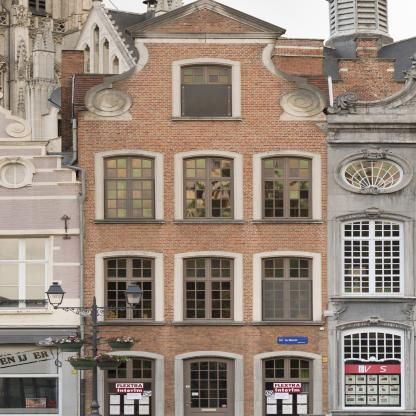Building Outline: (78, 0, 328, 416)
Cornice: (125, 0, 287, 40)
Door: (183, 357, 235, 416)
Facade: (78, 121, 328, 415)
Floor: (78, 240, 327, 341), (78, 143, 327, 240)
Floor Slab: (78, 138, 327, 143), (78, 235, 327, 240), (78, 336, 327, 341)
Ground Floor: (78, 341, 327, 416)
Sill: (170, 116, 245, 121), (172, 321, 246, 326), (93, 321, 166, 326), (250, 220, 325, 224), (172, 220, 247, 224), (93, 220, 167, 224), (252, 321, 325, 325)
Top Floor: (140, 38, 271, 143)
Window: (261, 256, 314, 321), (261, 155, 314, 220), (103, 155, 156, 220), (182, 155, 235, 220), (103, 256, 156, 321), (183, 256, 236, 321), (262, 357, 314, 416), (104, 357, 155, 416), (180, 63, 232, 117)
dont: (44, 282, 145, 416)
